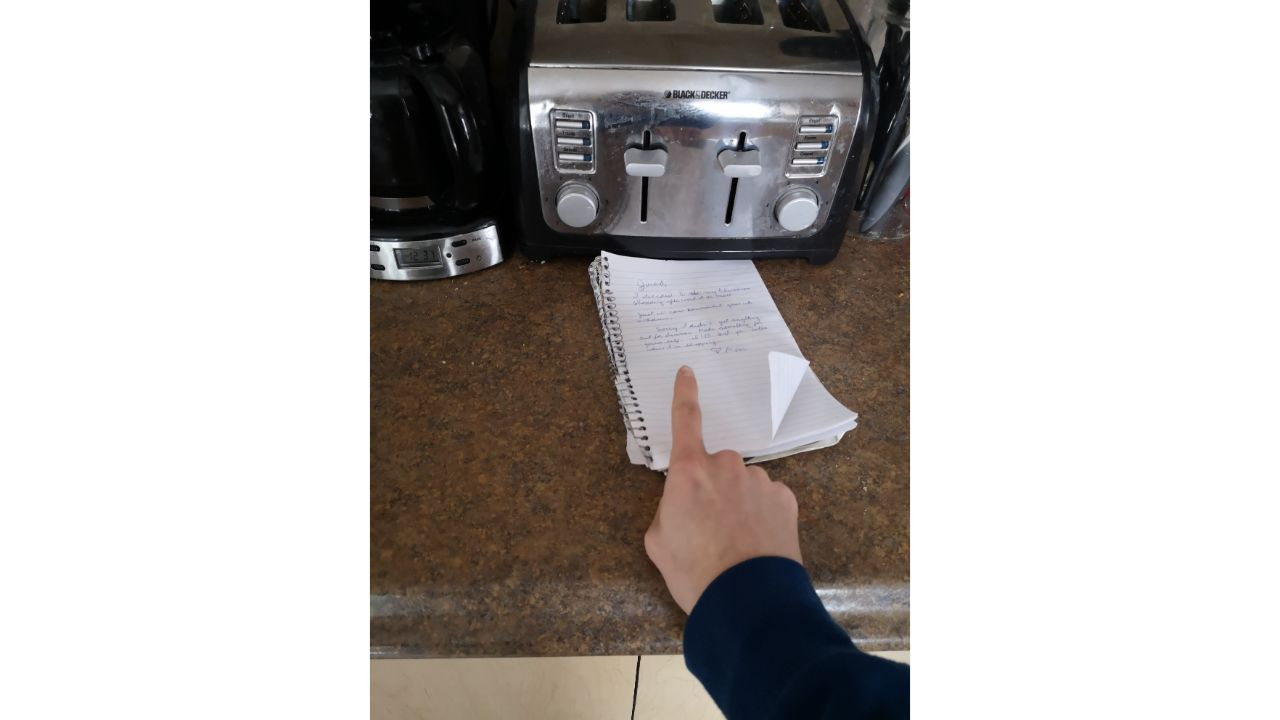finger: (641, 364, 814, 634)
